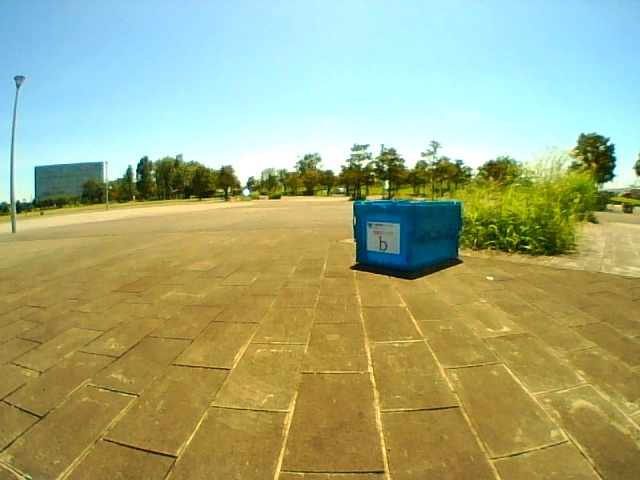blue_box: (355, 201, 459, 267)
tag_b: (368, 223, 401, 253)
